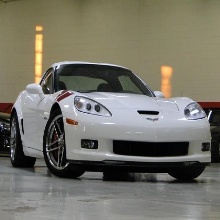no damage: (9, 61, 213, 181)
